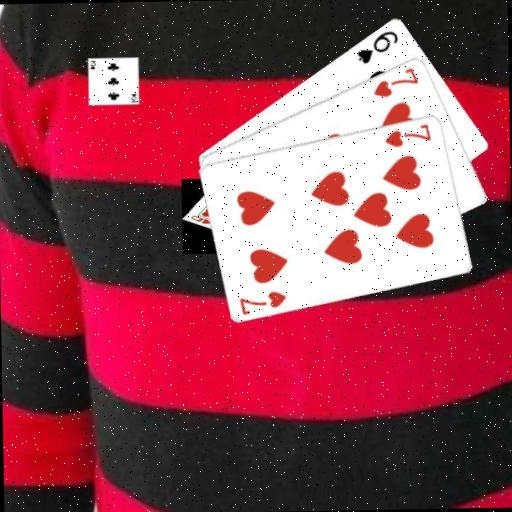6S: (354, 27, 401, 65)
7H: (370, 64, 421, 99), (237, 287, 289, 316), (382, 121, 433, 149)
